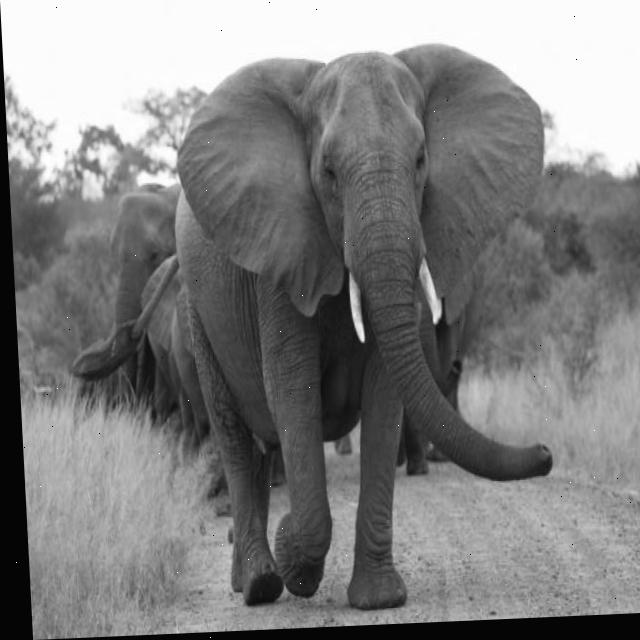Elephant: (164, 35, 569, 617)
